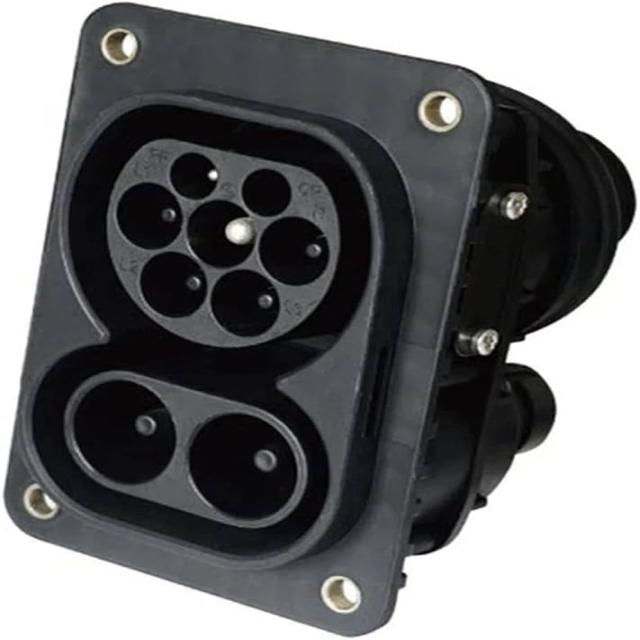inlet: (107, 139, 341, 347)
inlet-above-left: (170, 153, 222, 201)
inlet-above-right: (241, 168, 294, 217)
inlet-below-left: (137, 251, 207, 320)
inlet-below-right: (209, 268, 282, 336)
inlet-circle: (186, 200, 255, 268)
inlet-circle-left: (116, 183, 183, 251)
inlet-circle-right: (259, 216, 329, 286)
inlet-minus: (187, 412, 297, 521)
inlet-plus: (71, 380, 175, 485)
